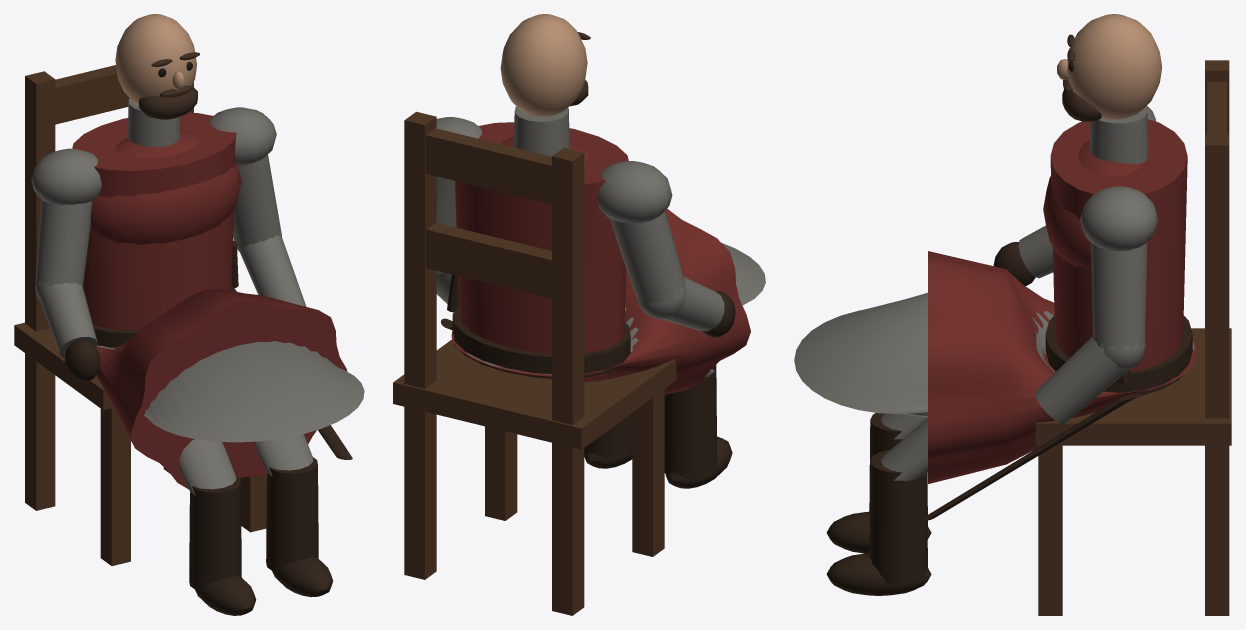
File: cliente-sentado.glb
3 views of the same model, side by side, from view 1: azimuth 30°, elevation 25°; view 2: azimuth 150°, elevation 25°; view 3: azimuth 270°, elevation 25° (orthographic). The views are drawn at different scales.
Visible parts, largest first — view 1: GuardiaCuerpo, Silla, GuardiaCabeza; view 2: Silla, GuardiaCuerpo, GuardiaCabeza; view 3: GuardiaCuerpo, Silla, GuardiaCabeza.
Part boxes in pixels (x1=…): GuardiaCuerpo: x1=31, y1=98, x2=364, y2=615; Silla: x1=14, y1=65, x2=266, y2=565; GuardiaCabeza: x1=115, y1=14, x2=199, y2=119; Silla: x1=393, y1=111, x2=676, y2=615; GuardiaCuerpo: x1=436, y1=106, x2=765, y2=488; GuardiaCabeza: x1=500, y1=14, x2=590, y2=116; GuardiaCuerpo: x1=794, y1=106, x2=1197, y2=595; Silla: x1=1035, y1=60, x2=1231, y2=615; GuardiaCabeza: x1=1057, y1=14, x2=1162, y2=121.
Bounding box in the file's own units: 0.6695 × 1.25 × 0.8932.
